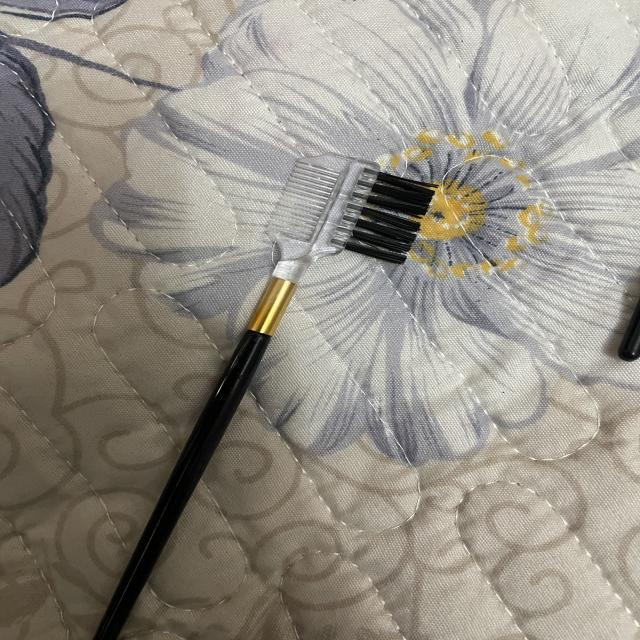brush: (73, 135, 456, 640)
